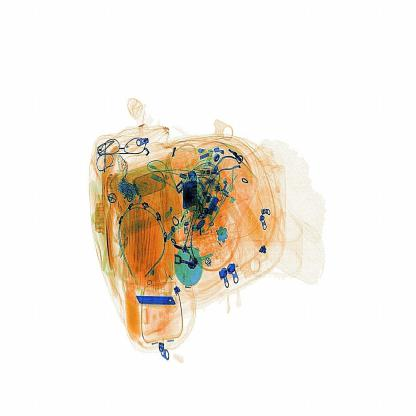pliers: (134, 291, 178, 321)
